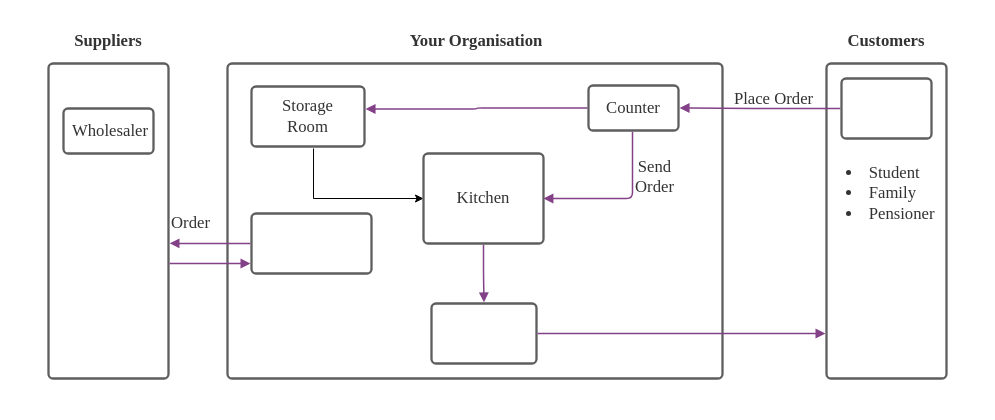
This 995x420 diagram has some shape labels left out. Each missing label, with the box of its shape:
Burger Assembly: (430, 302, 537, 364)
Deliver order to customer: (599, 302, 811, 334)
Hungry Person: (840, 77, 932, 139)
Raw Materials cheese potatoes buns tomatoes toys: (167, 265, 274, 402)
Warehouse: (250, 212, 372, 274)
